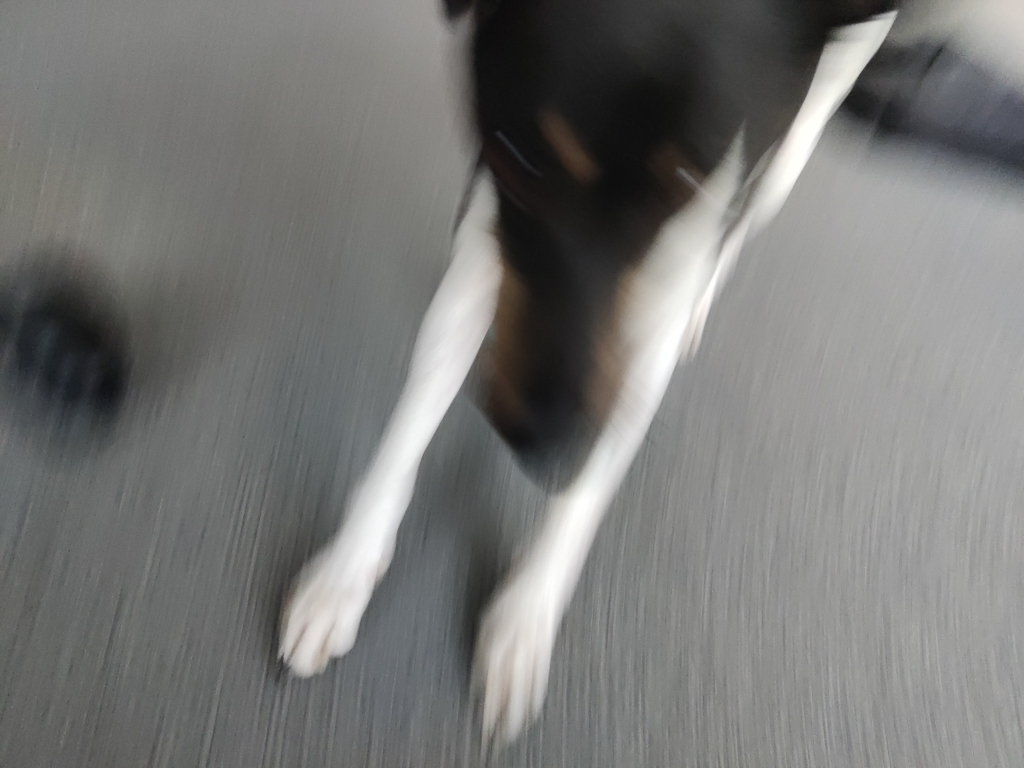Dog: (259, 0, 968, 752)
